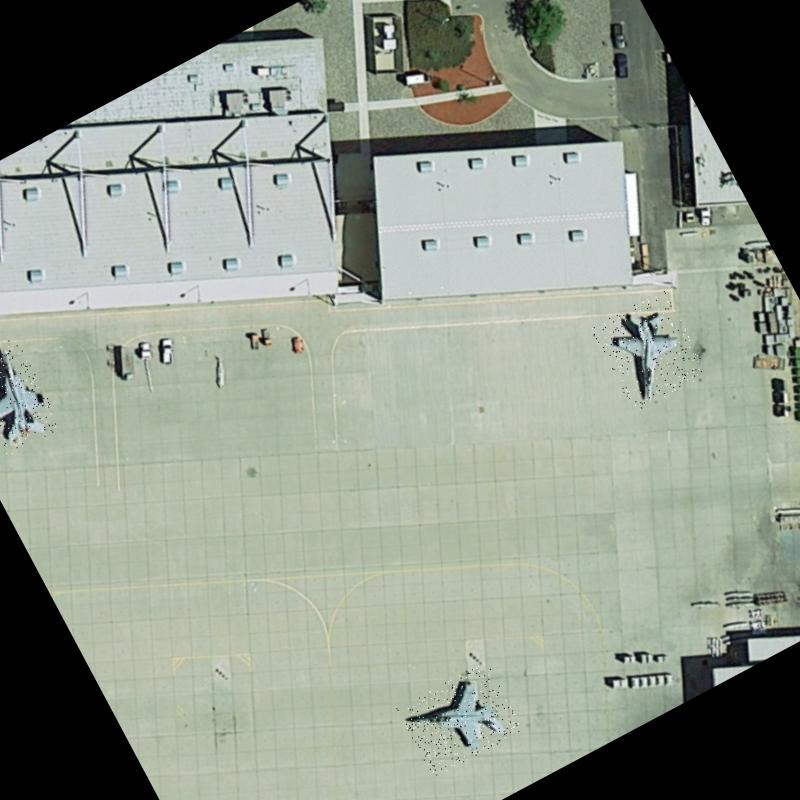A16: (396, 660, 523, 778), (590, 288, 710, 412), (0, 332, 63, 456)
